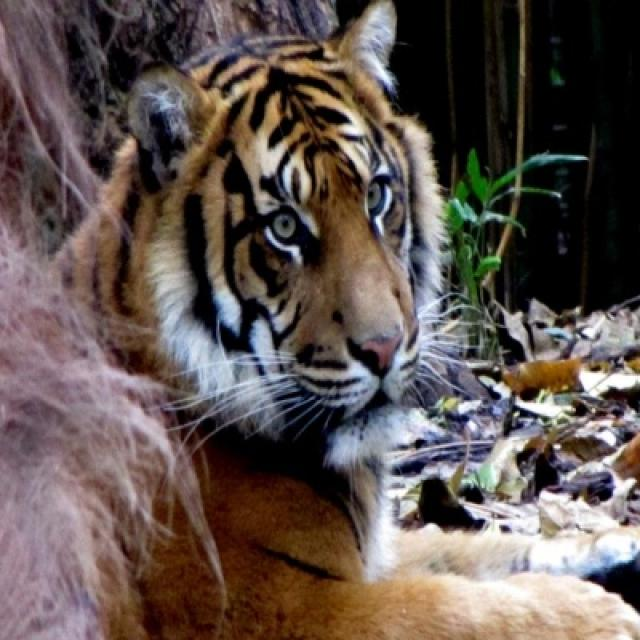Tiger: (66, 4, 638, 638)
